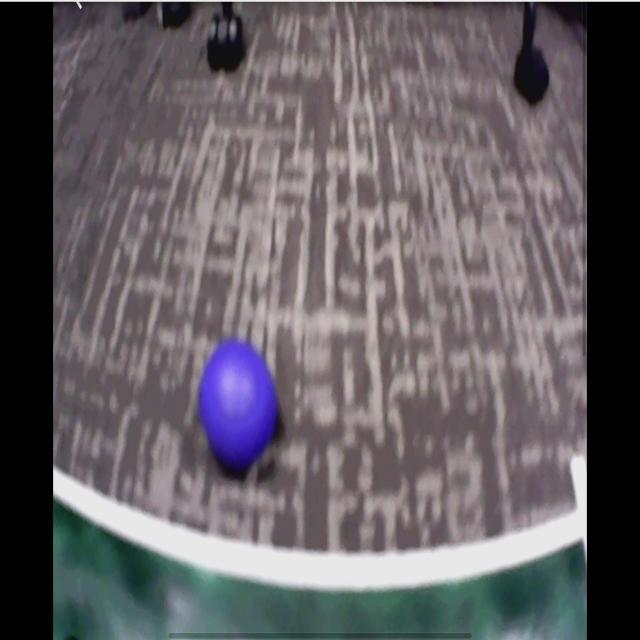ball: (198, 344, 277, 464)
